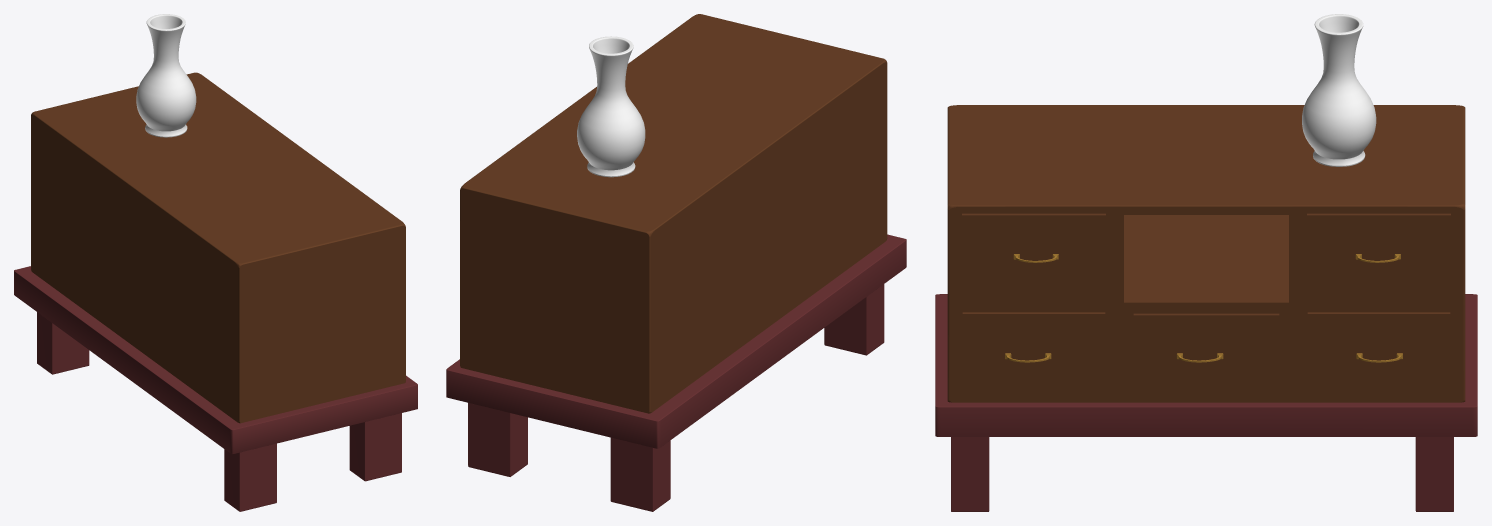
Rendered from Drawer.fbx.
The picture shows the model from 3 angles, left to right: view 1: azimuth 30°, elevation 25°; view 2: azimuth 150°, elevation 25°; view 3: azimuth 270°, elevation 25°; orthographic projection. The views are drawn at different scales.
Visible parts, largest first — view 1: Cabinet', VASE; view 2: Cabinet', VASE; view 3: Cabinet', VASE.
Part boxes in pixels (left/top/right/bottom): Cabinet': left=14, top=72, right=417, bottom=511; VASE: left=136, top=14, right=196, bottom=137; Cabinet': left=446, top=14, right=906, bottom=511; VASE: left=577, top=36, right=645, bottom=177; Cabinet': left=935, top=105, right=1477, bottom=511; VASE: left=1302, top=14, right=1376, bottom=166.
Bounding box in the file's own units: 69.81 × 124 × 138.
